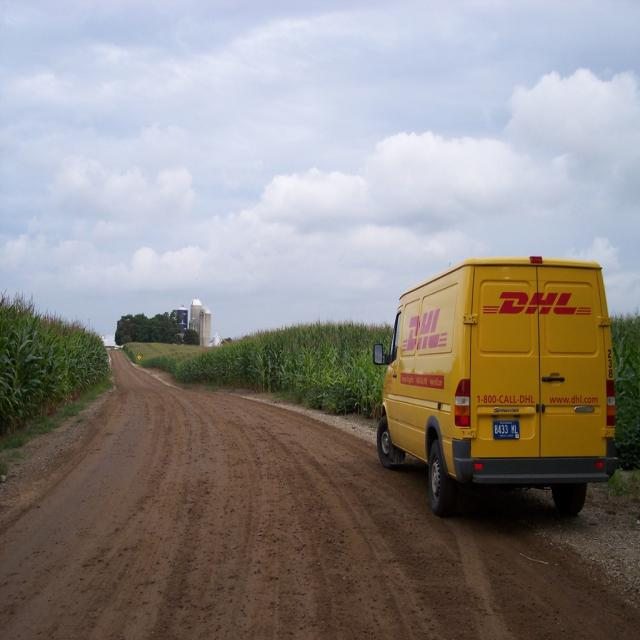dhl: (478, 286, 599, 320), (395, 308, 459, 357)
